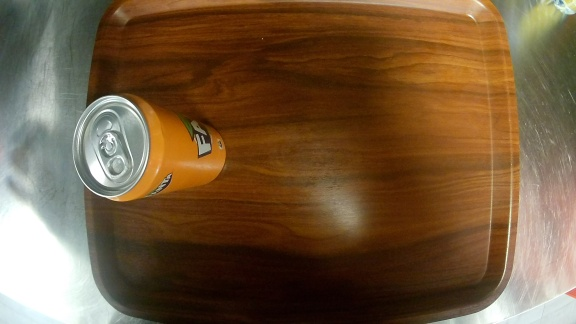kutufanta: (68, 92, 233, 207)
